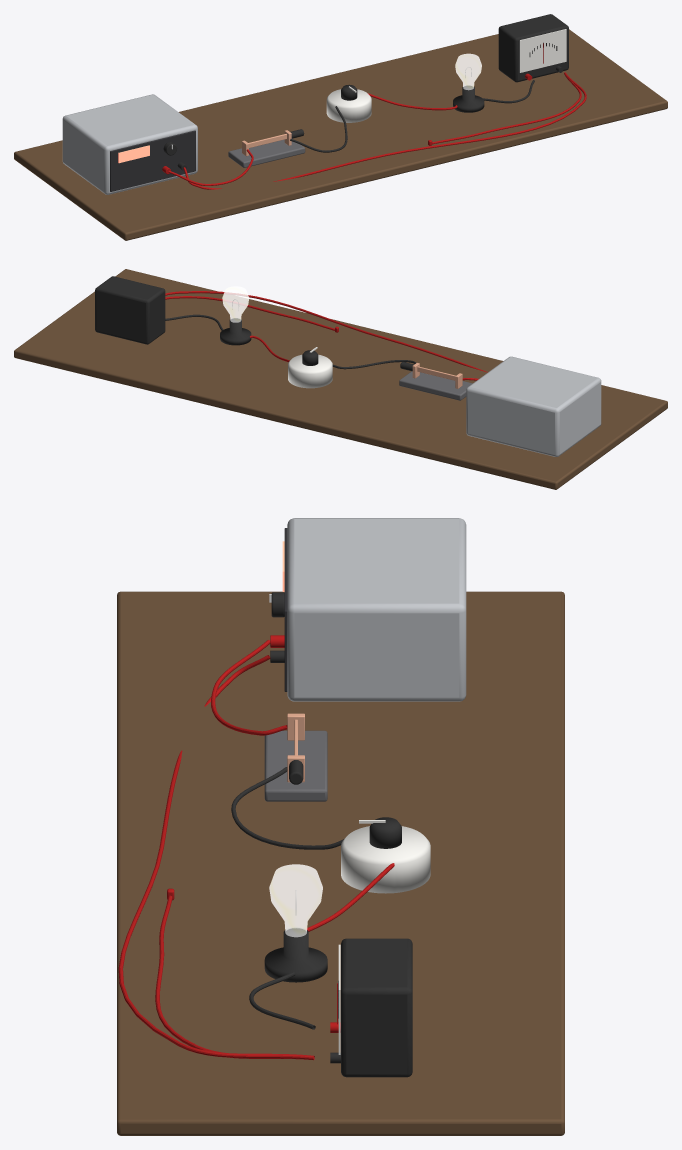
Rendered from physics-bench.glb.
3 renders of one model, top to bottom at view 1: azimuth 30°, elevation 25°; view 2: azimuth 150°, elevation 25°; view 3: azimuth 270°, elevation 25°, orthographic. The views are drawn at different scales.
Visible parts, largest first — view 1: circuit_board, psu_case, psu_front, ammeter_case, ammeter_face, rheostat_body, switch_base, lead_return_connected, phys_bulb, bulb_holder, lead_return_loose, psu_display; view 2: circuit_board, psu_case, ammeter_case, rheostat_body, switch_base, lead_return_connected, phys_bulb, bulb_holder, lead_return_loose; view 3: circuit_board, psu_case, ammeter_case, rheostat_body, switch_base, phys_bulb, lead_return_connected, bulb_holder, lead_return_loose, lead_1, rheostat_knob, lead_0.
Boxes of the visible parts, x1=… form: circuit_board: x1=14, y1=29, x2=667, y2=240; psu_case: x1=62, y1=94, x2=197, y2=194; psu_front: x1=110, y1=130, x2=195, y2=191; ammeter_case: x1=498, y1=14, x2=568, y2=82; ammeter_face: x1=519, y1=29, x2=566, y2=72; rheostat_body: x1=326, y1=89, x2=371, y2=122; switch_base: x1=228, y1=138, x2=305, y2=167; lead_return_connected: x1=183, y1=72, x2=586, y2=189; phys_bulb: x1=455, y1=53, x2=481, y2=90; bulb_holder: x1=453, y1=85, x2=484, y2=112; lead_return_loose: x1=432, y1=73, x2=581, y2=144; psu_display: x1=118, y1=145, x2=149, y2=163; circuit_board: x1=14, y1=269, x2=667, y2=489; psu_case: x1=466, y1=356, x2=601, y2=456; ammeter_case: x1=95, y1=276, x2=165, y2=344; rheostat_body: x1=288, y1=354, x2=332, y2=388; switch_base: x1=399, y1=371, x2=472, y2=400; lead_return_connected: x1=165, y1=291, x2=487, y2=372; phys_bulb: x1=222, y1=286, x2=249, y2=322; bulb_holder: x1=220, y1=318, x2=251, y2=345; lead_return_loose: x1=165, y1=296, x2=334, y2=330; circuit_board: x1=117, y1=591, x2=564, y2=1135; psu_case: x1=287, y1=518, x2=466, y2=701; ammeter_case: x1=341, y1=938, x2=412, y2=1077; rheostat_body: x1=341, y1=826, x2=430, y2=893; switch_base: x1=264, y1=730, x2=327, y2=801; phys_bulb: x1=269, y1=864, x2=322, y2=937; lead_return_connected: x1=118, y1=655, x2=314, y2=1060; bulb_holder: x1=264, y1=928, x2=327, y2=982; lead_return_loose: x1=155, y1=895, x2=314, y2=1059; lead_1: x1=231, y1=767, x2=343, y2=849; rheostat_knob: x1=369, y1=817, x2=401, y2=848; lead_0: x1=211, y1=640, x2=287, y2=735.
Size of the model in its own units: 1.4 by 0.146 by 0.4999.
